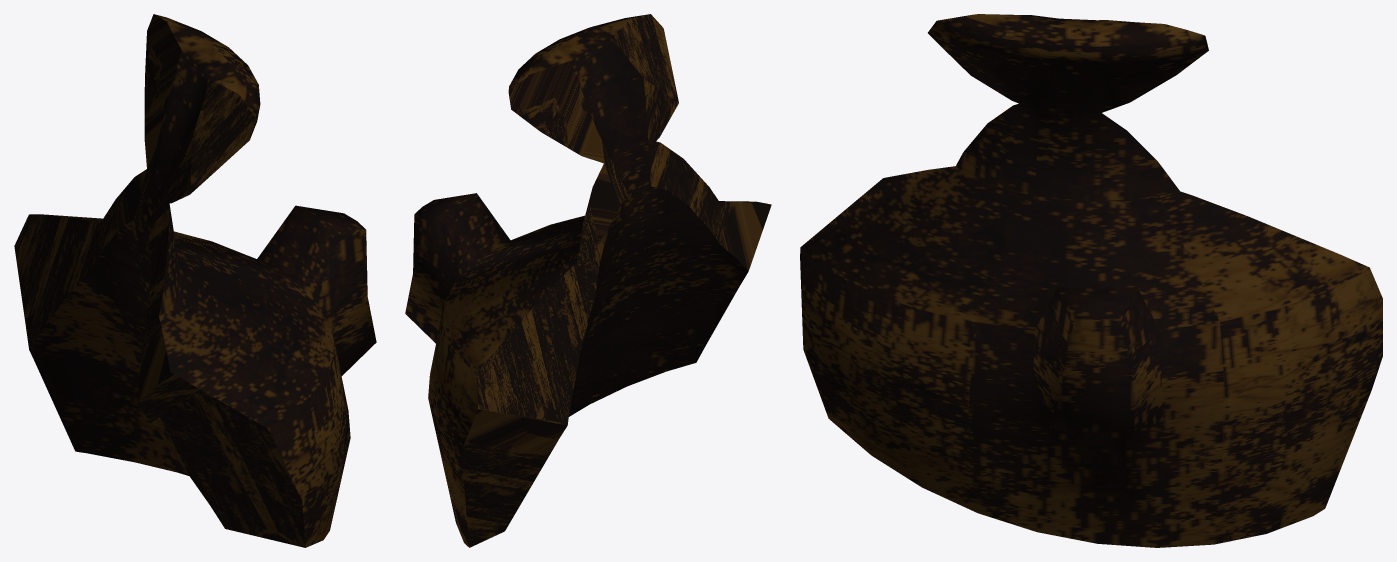
Rendered from PoteryPiece2.fbx.
3 renders of one model, left to right at view 1: azimuth 30°, elevation 25°; view 2: azimuth 150°, elevation 25°; view 3: azimuth 270°, elevation 25°, orthographic. The views are drawn at different scales.
Parts seen in each view (by area): view 1: Cylinder_cell.001; view 2: Cylinder_cell.001; view 3: Cylinder_cell.001.
Part boxes in pixels (box(x1,y1,x2,y2)): Cylinder_cell.001: box(14, 14, 376, 547); Cylinder_cell.001: box(405, 14, 771, 547); Cylinder_cell.001: box(800, 14, 1382, 547).
Size of the model in its own units: 155 by 238 by 255.
